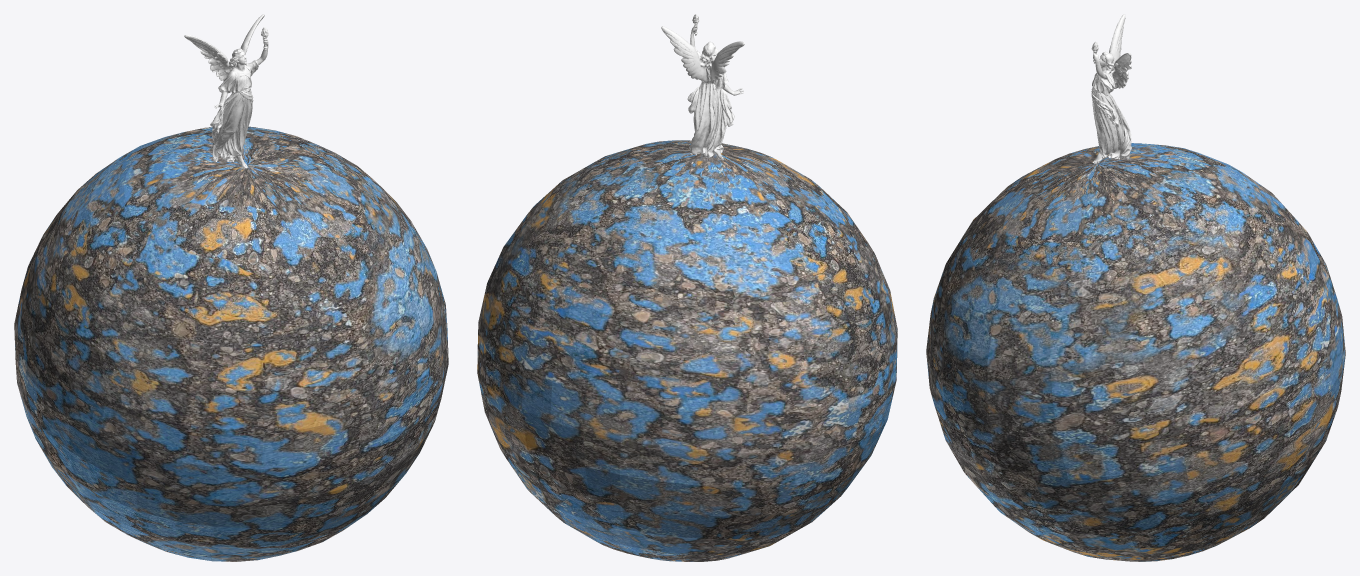
The model's file is earth_angel.glb.
The picture shows the model from 3 angles, left to right: view 1: azimuth 30°, elevation 25°; view 2: azimuth 150°, elevation 25°; view 3: azimuth 270°, elevation 25°; orthographic projection. The views are drawn at different scales.
Visible parts, largest first — view 1: Sphere, Mesh_0.002; view 2: Sphere, Mesh_0.002; view 3: Sphere, Mesh_0.002.
Part boxes in pixels (bbox=[...]): Sphere: bbox=[14, 126, 448, 561]; Mesh_0.002: bbox=[184, 14, 268, 168]; Sphere: bbox=[477, 140, 897, 561]; Mesh_0.002: bbox=[661, 14, 744, 160]; Sphere: bbox=[926, 143, 1345, 561]; Mesh_0.002: bbox=[1091, 14, 1131, 163].
Bounding box in the file's own units: 3.5 × 4.66 × 3.5.
2 materials, 1 textured.
